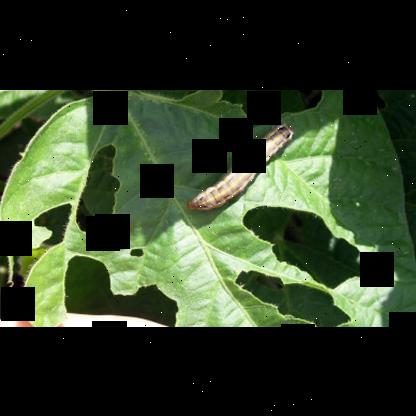agujero: (242, 201, 374, 289), (62, 246, 180, 324), (11, 198, 73, 298), (232, 280, 352, 316), (78, 144, 122, 232), (217, 90, 325, 120), (230, 139, 246, 163), (241, 130, 257, 146), (130, 245, 144, 256)
oruga: (178, 147, 304, 191)
